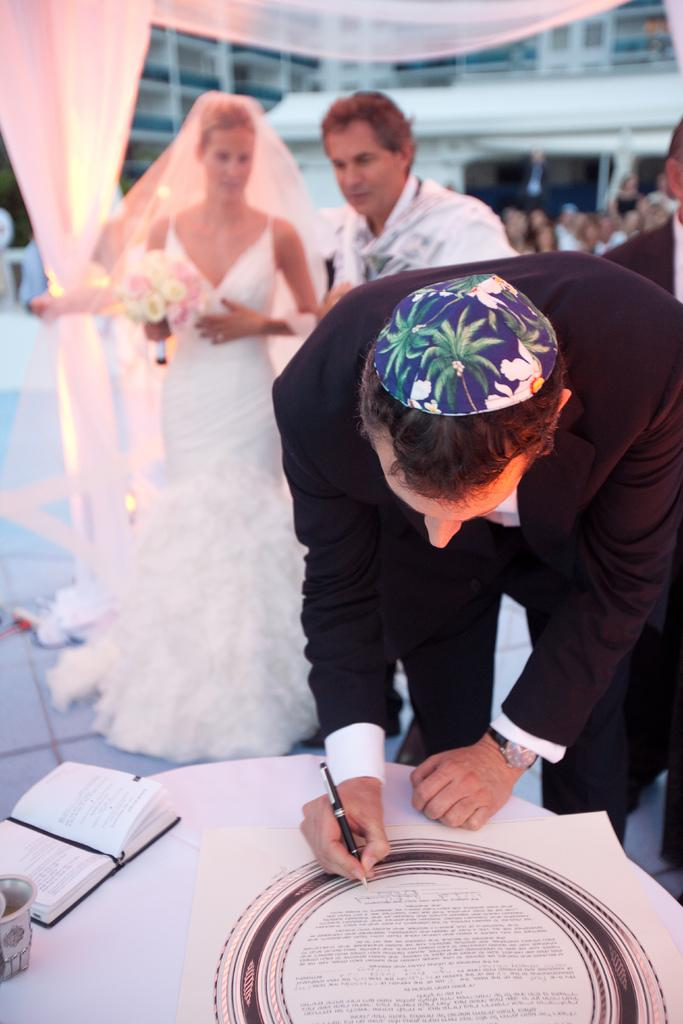pen: (322, 764, 367, 882)
